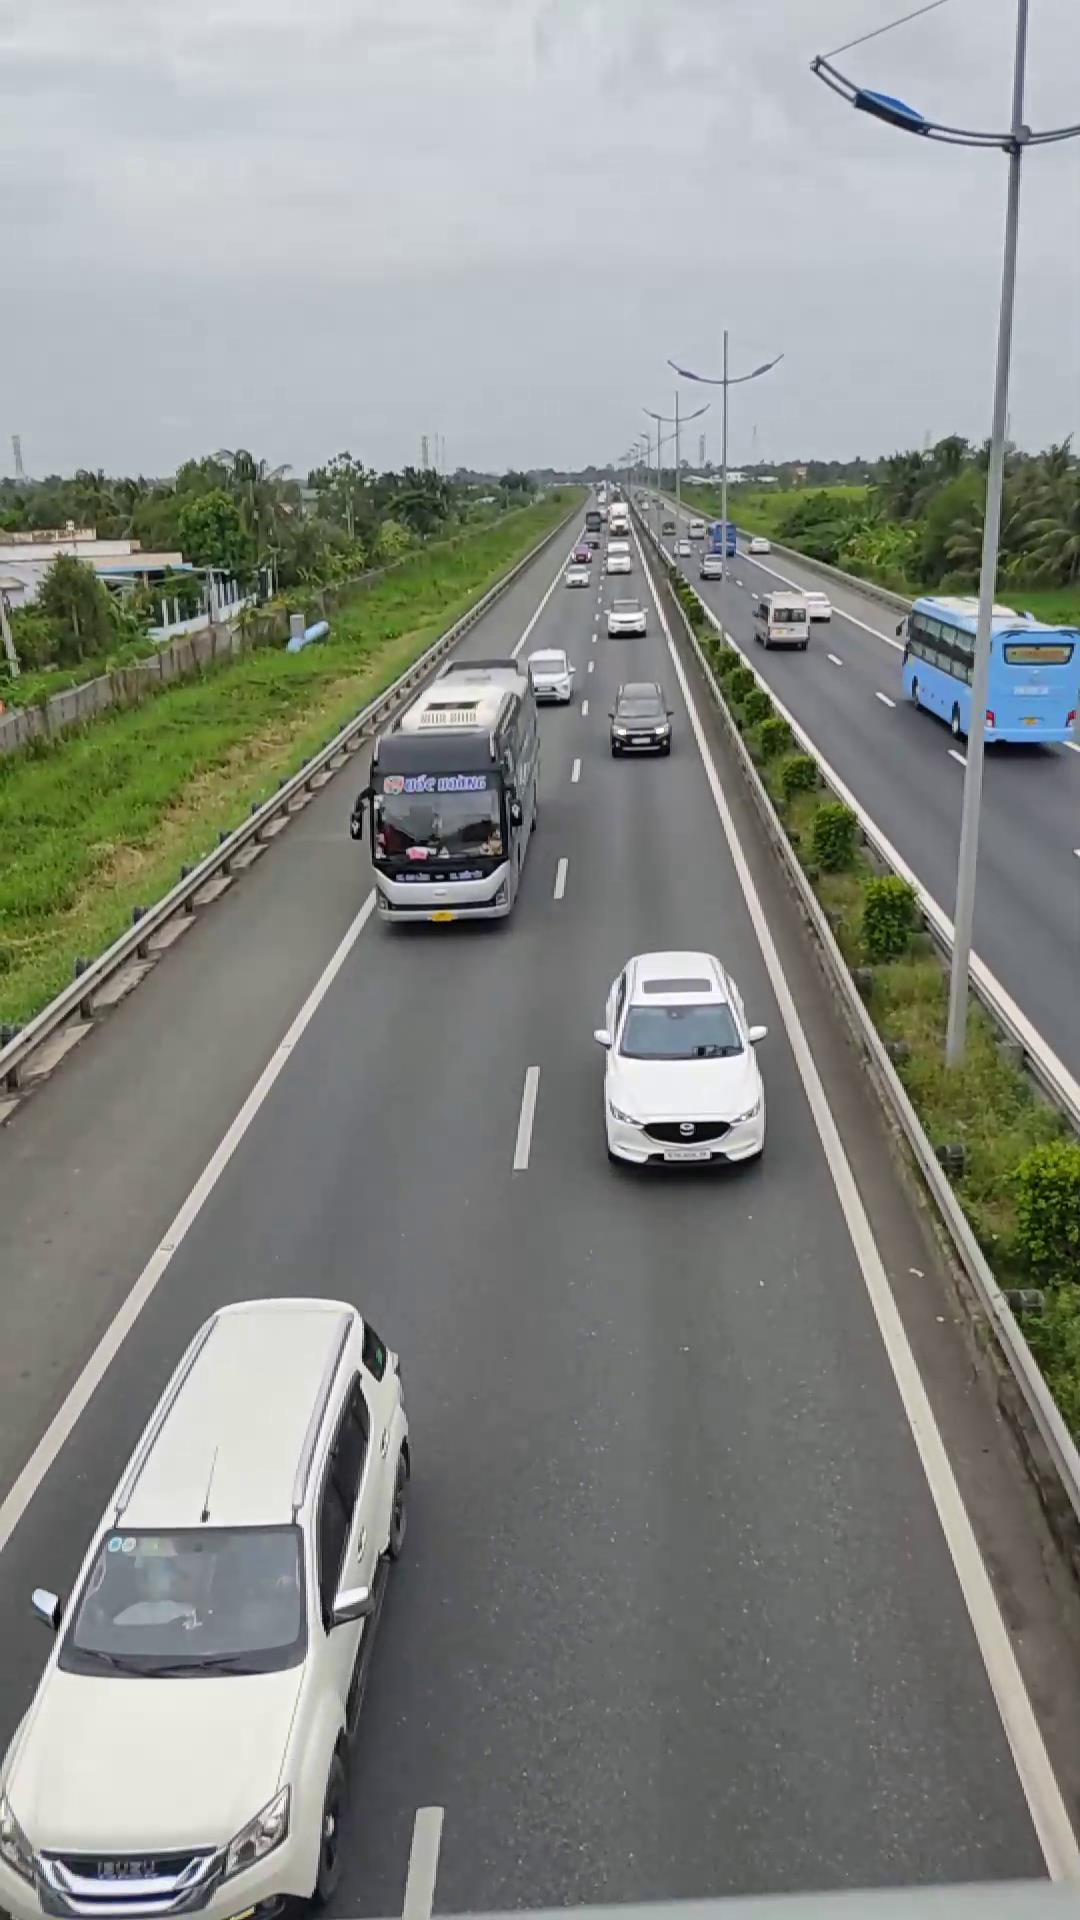bus: (358, 650, 542, 931)
car: (0, 1290, 414, 1918), (592, 948, 770, 1173), (605, 681, 676, 755)
